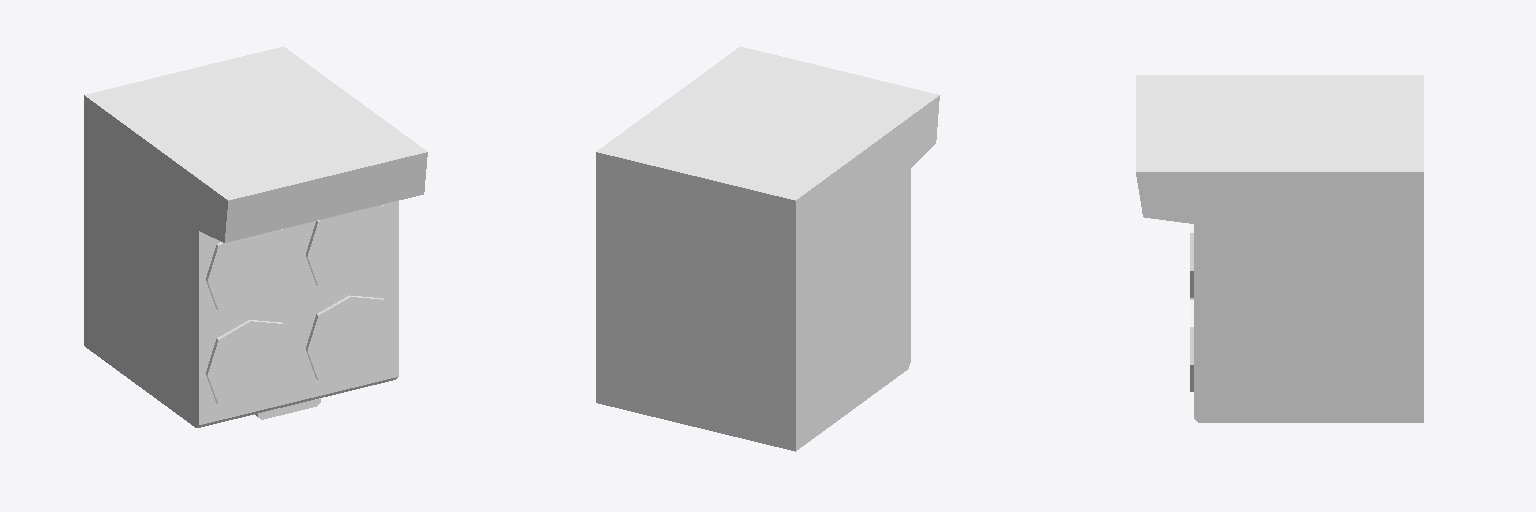
File: Oven.obj
The picture shows the model from 3 angles: view 1: azimuth 30°, elevation 25°; view 2: azimuth 150°, elevation 25°; view 3: azimuth 270°, elevation 25°; orthographic projection.
Parts seen in each view (by area): view 1: Cube1; view 2: Cube1; view 3: Cube1.
Boxes of the visible parts, box(x1,y1,x2,y2) form: Cube1: box(84, 46, 427, 427); Cube1: box(596, 46, 939, 451); Cube1: box(1136, 75, 1423, 422).
Bounding box in the file's own units: 2 × 2.54 × 2.5.